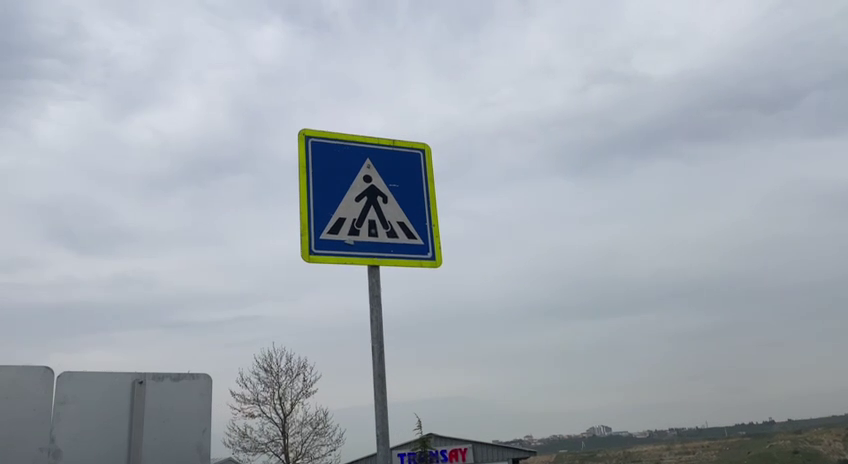pedestrianCrossing: (294, 127, 445, 269)
